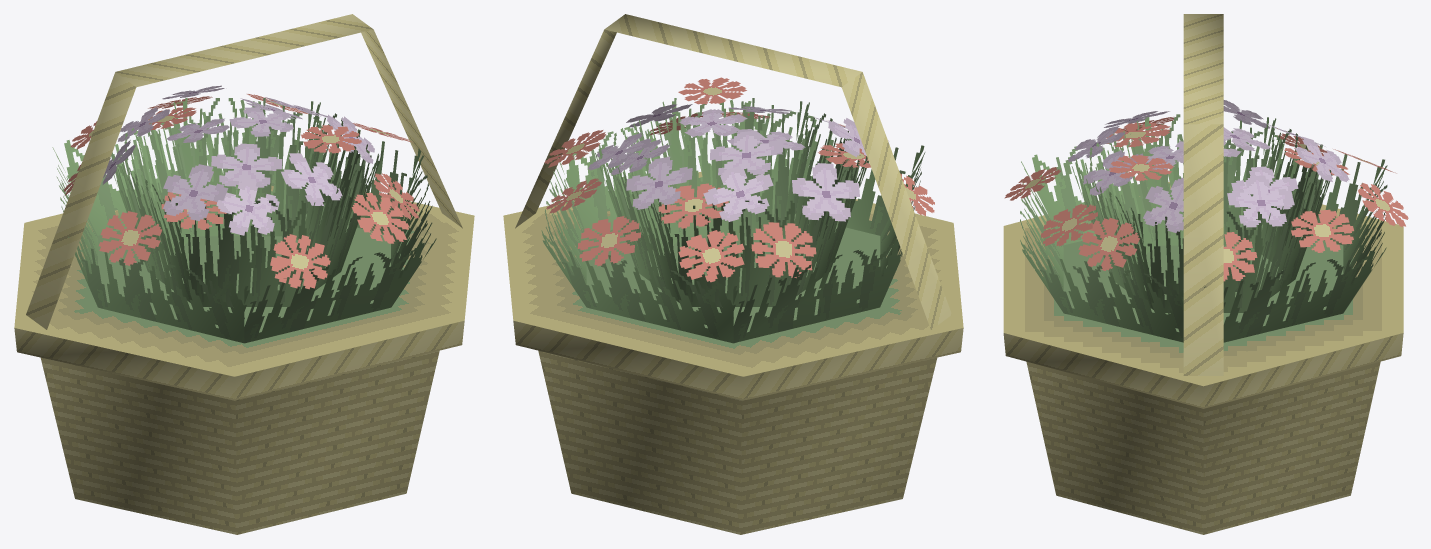
Rendered from 03d3_Flower_Basket.glb.
The picture shows the model from 3 angles, left to right: view 1: azimuth 30°, elevation 25°; view 2: azimuth 150°, elevation 25°; view 3: azimuth 270°, elevation 25°; orthographic projection. The views are drawn at different scales.
Parts seen in each view (by area): view 1: part_0; view 2: part_0; view 3: part_0.
Boxes of the visible parts, <box> form: part_0: <box>14,14,474,534</box>; part_0: <box>503,14,963,534</box>; part_0: <box>1003,14,1408,534</box>.
Size of the model in its own units: 0.2324 by 0.1963 by 0.1949.
Materials: 1 (1 with a texture image).
